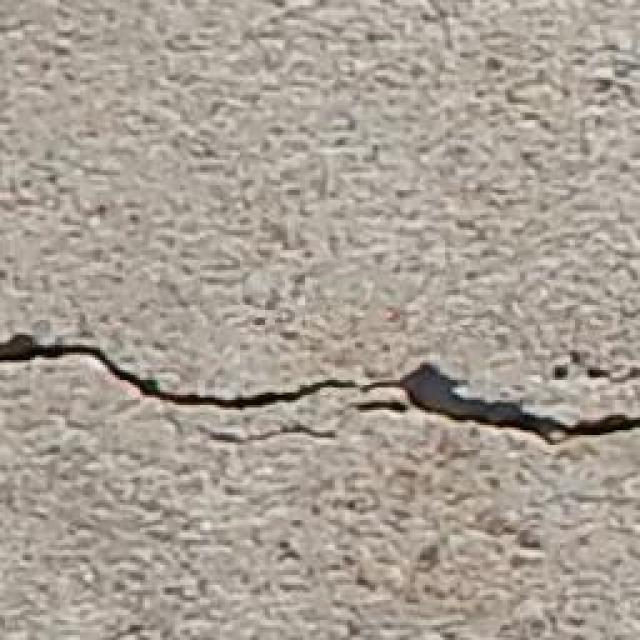concrete-crack: (1, 325, 639, 452)
